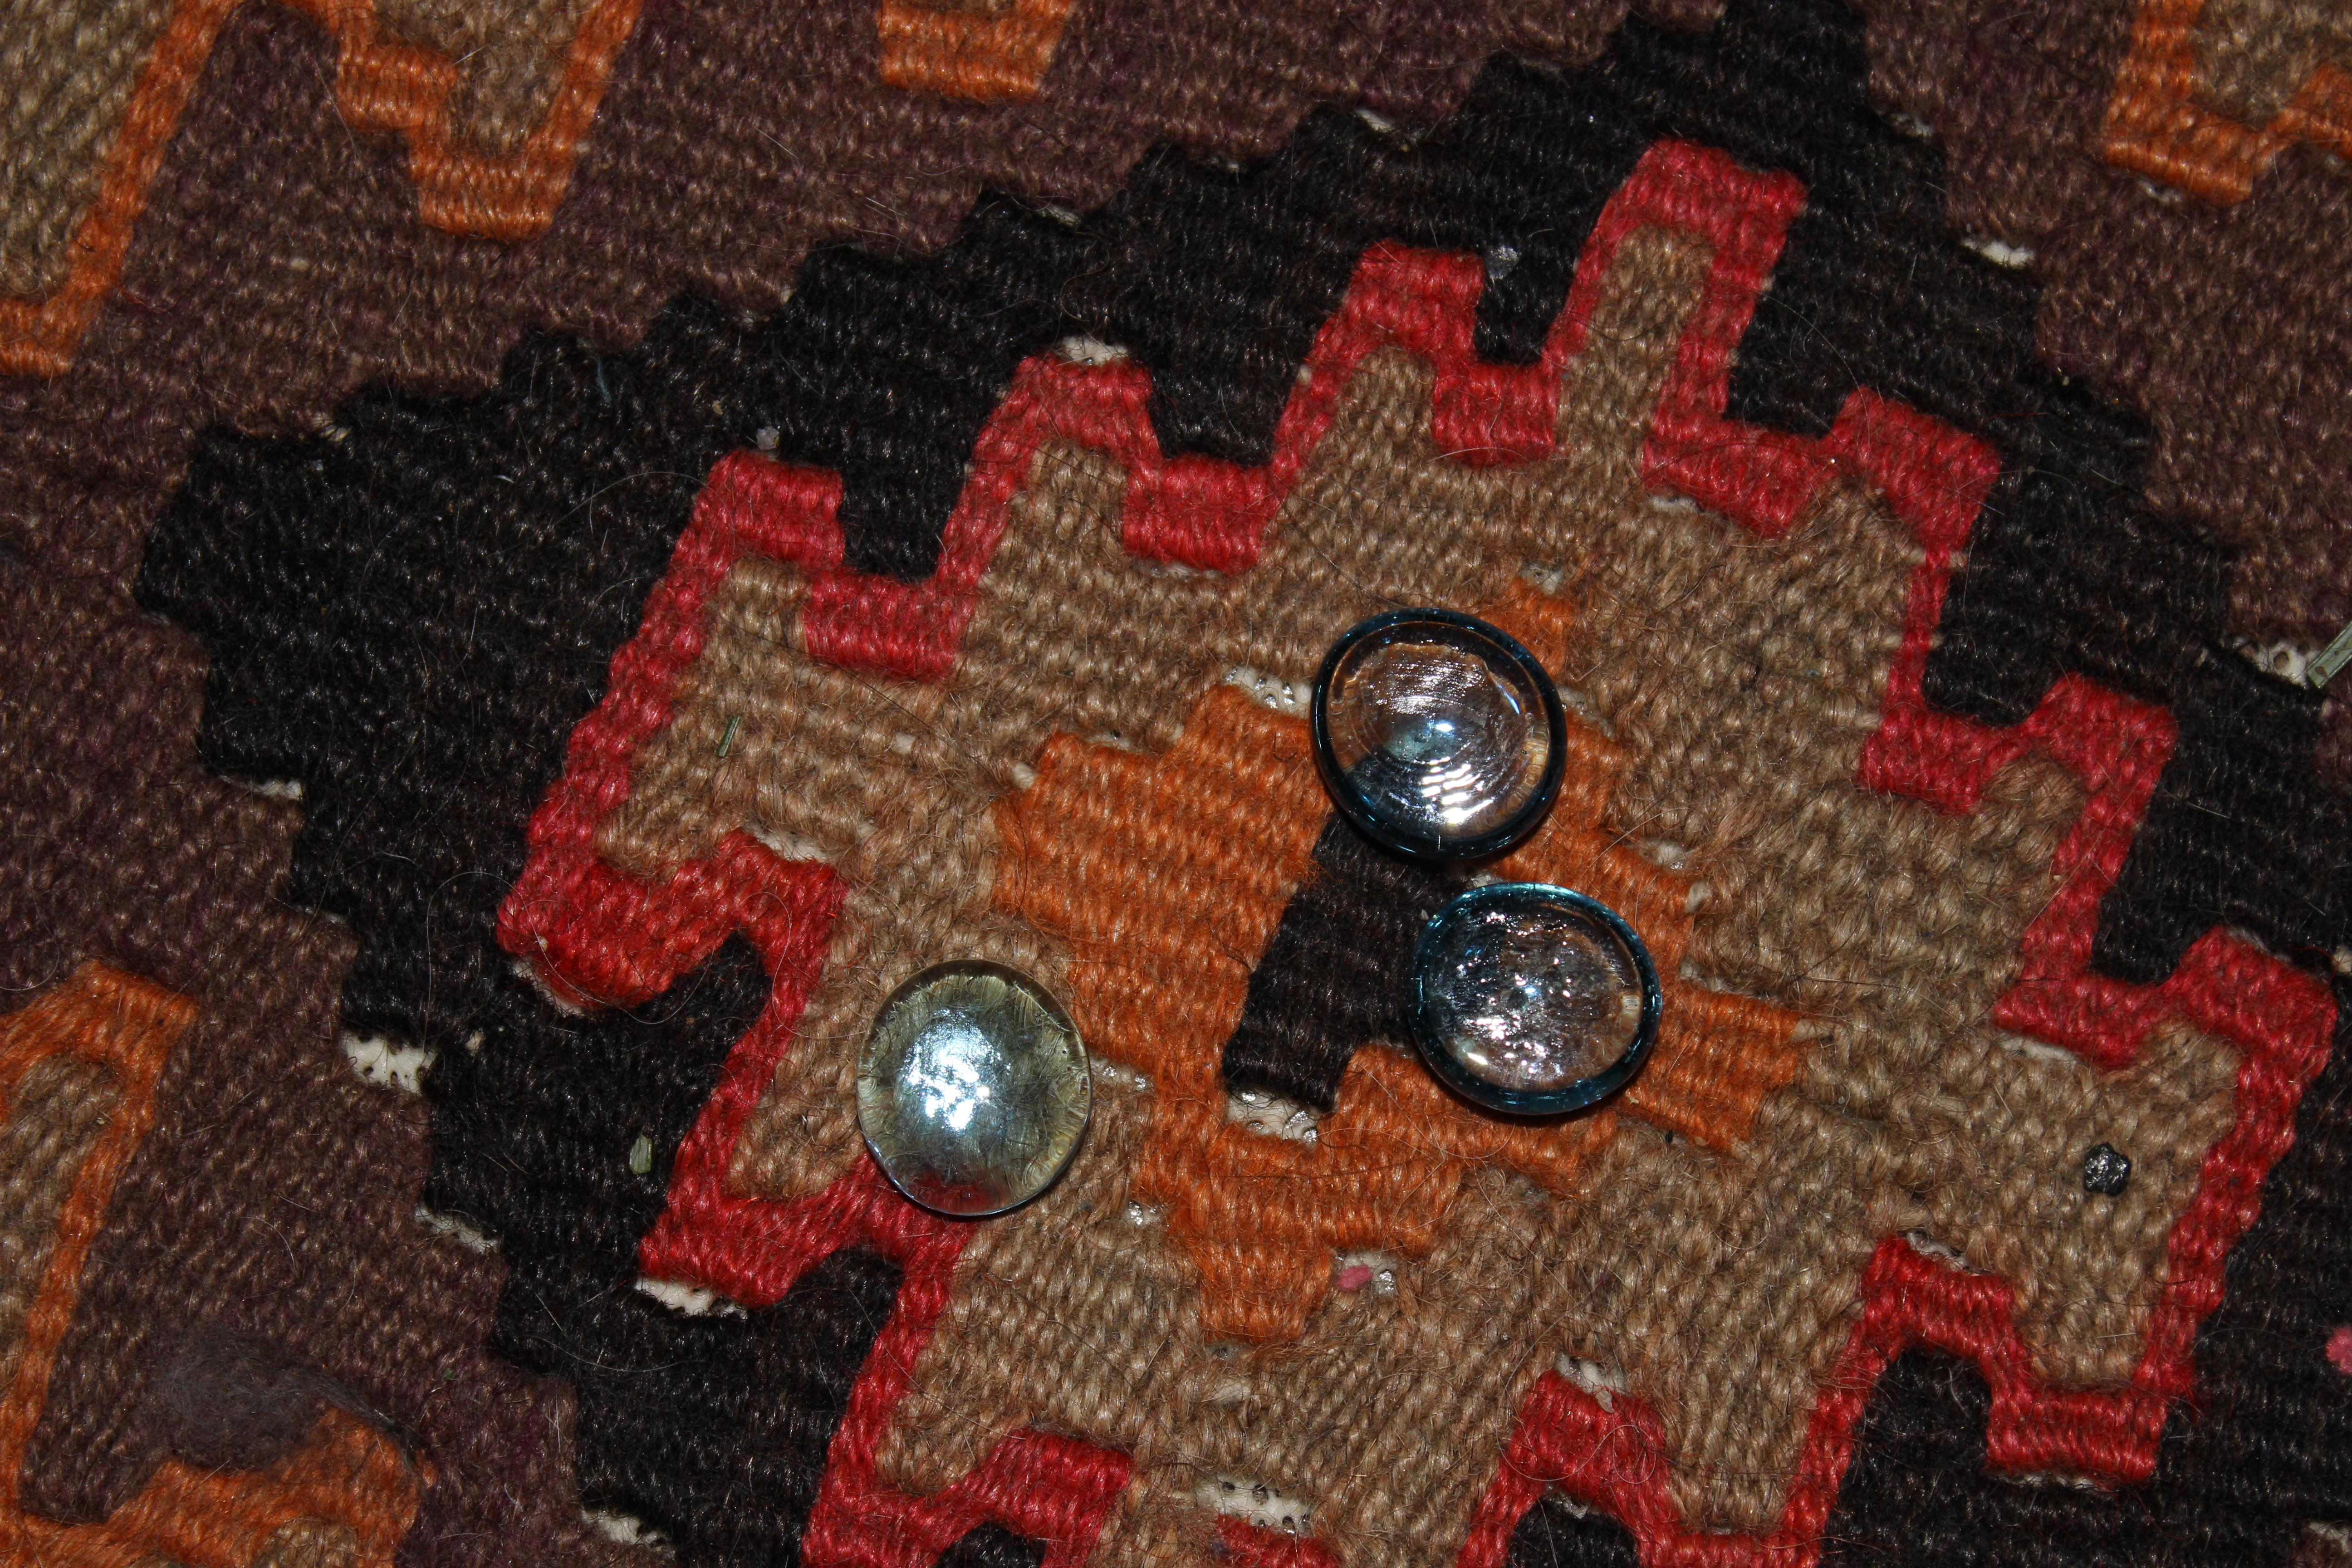glassBead: (1281, 576, 1582, 892), (1370, 847, 1675, 1150), (840, 942, 1109, 1244)
